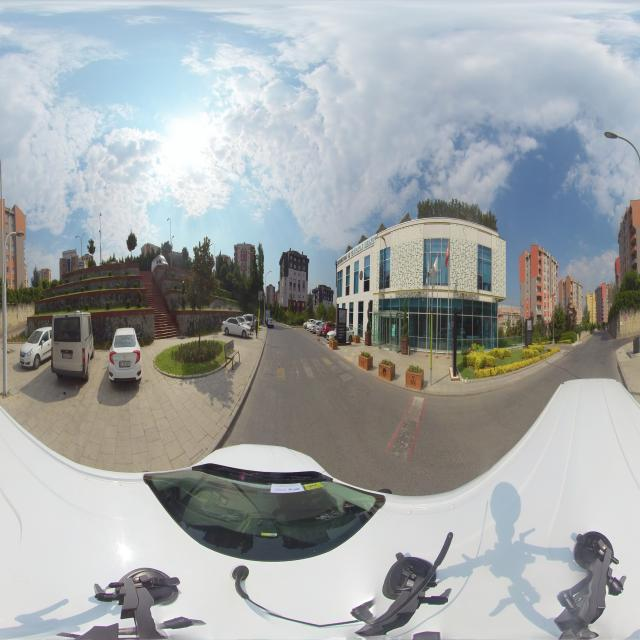SignStore: (337, 237, 373, 267)
